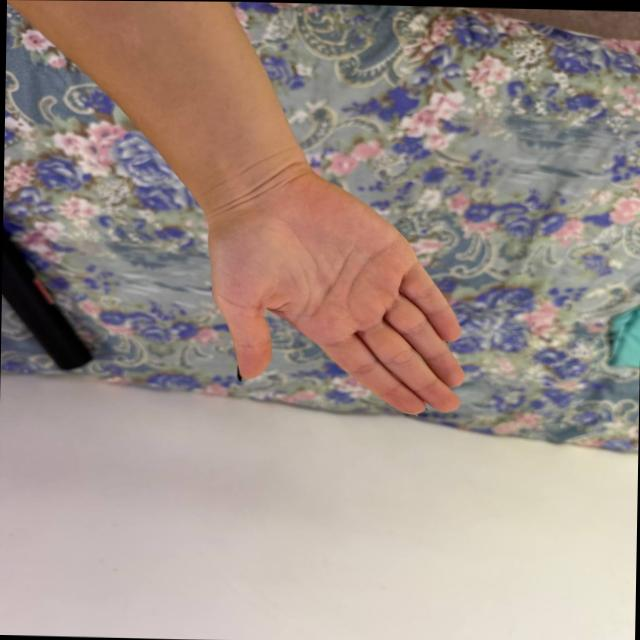v: (195, 181, 504, 434)
